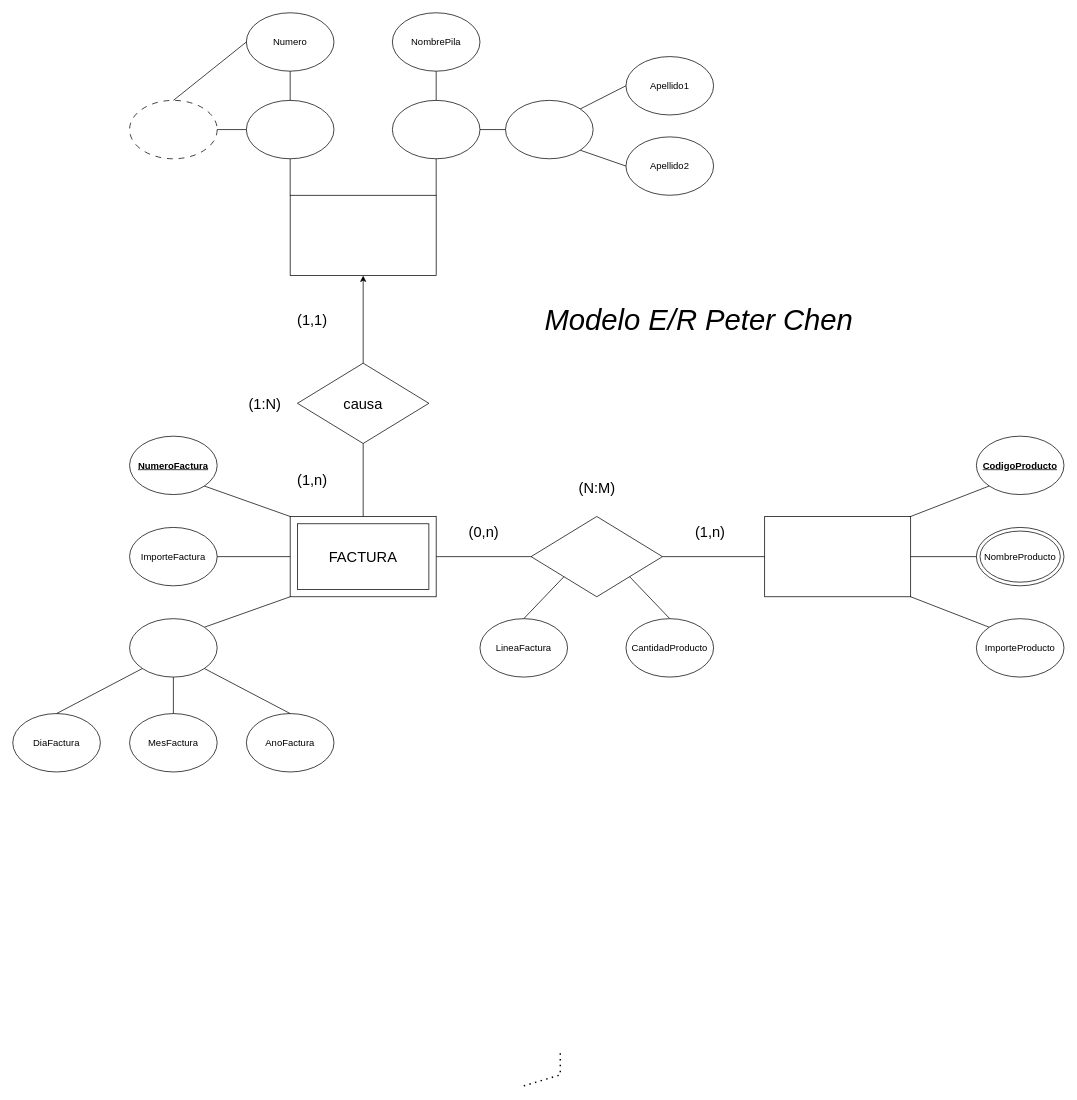
This 1077x1100 diagram has some shape labels left out. The centre of each missing label's shape, as x and y in pixels:
"Apellidos" goes at point (549, 129).
"CLIENTE" goes at point (362, 235).
"contiene" goes at point (596, 556).
"DNI" goes at point (290, 129).
"FechaFactura" goes at point (173, 647).
"Letra" goes at point (173, 129).
"NombreCompleto" goes at point (436, 129).
"PRODUCTO" goes at point (837, 556).
